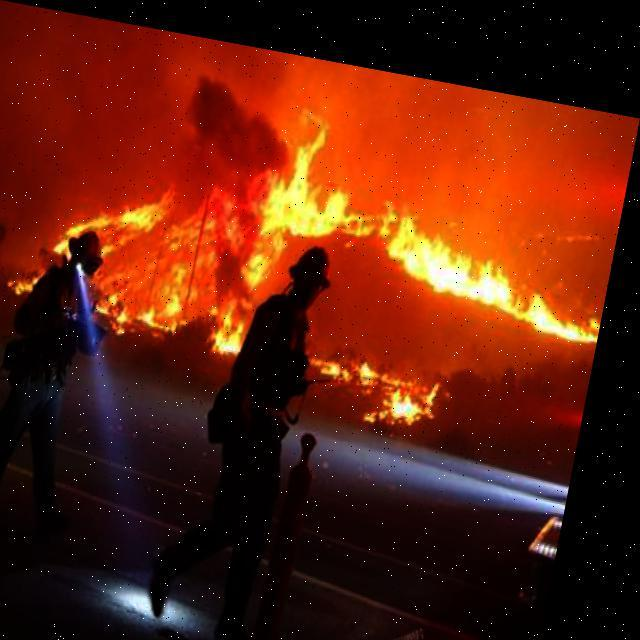Fire: (35, 66, 623, 433)
